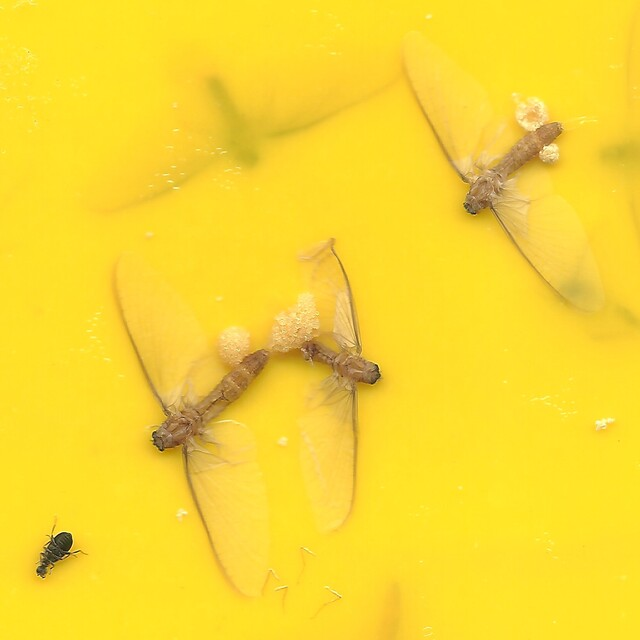Coleoptera: (35, 530, 77, 580)
Ephemeroptera: (400, 37, 605, 311), (112, 252, 272, 603), (273, 239, 382, 534)
